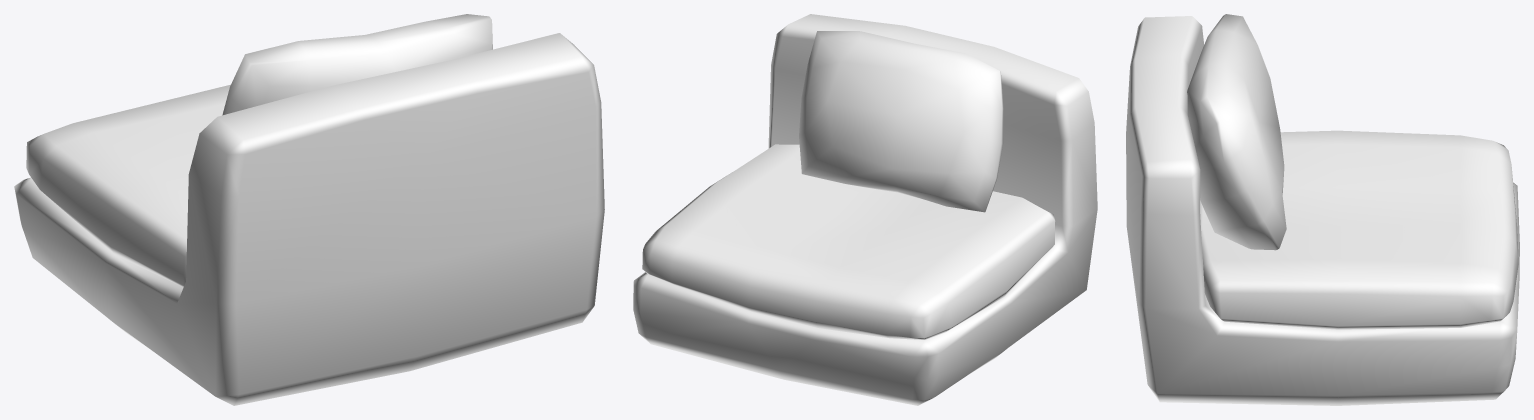
Rendered from P_StoneSofaSide.glb.
3 views of the same model, side by side, from view 1: azimuth 30°, elevation 25°; view 2: azimuth 150°, elevation 25°; view 3: azimuth 270°, elevation 25° (orthographic). The views are drawn at different scales.
Visible parts, largest first — view 1: P_StoneSofaSide; view 2: P_StoneSofaSide; view 3: P_StoneSofaSide.
Boxes of the visible parts, box(x1,y1,x2,y2) form: P_StoneSofaSide: box(14, 14, 604, 405); P_StoneSofaSide: box(633, 14, 1097, 405); P_StoneSofaSide: box(1126, 14, 1519, 405).
Bounding box in the file's own units: 1.01 × 0.7618 × 1.01.
Materials: 1 (1 with a texture image).
